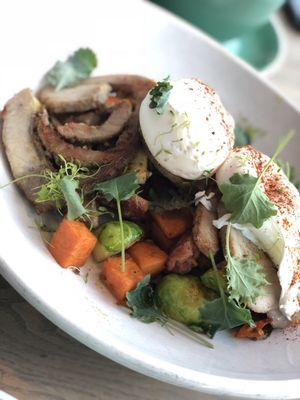sushi: (0, 44, 300, 398), (146, 0, 287, 44)
